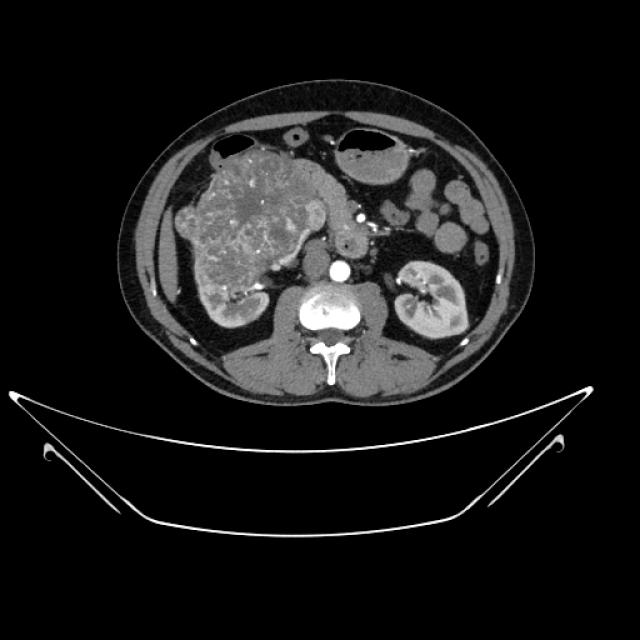Tumor: (182, 160, 318, 316)
